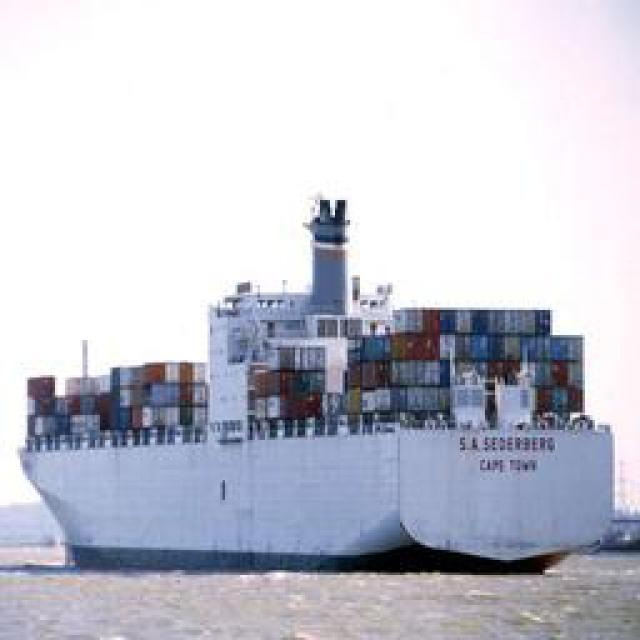Ship: (17, 234, 605, 577)
